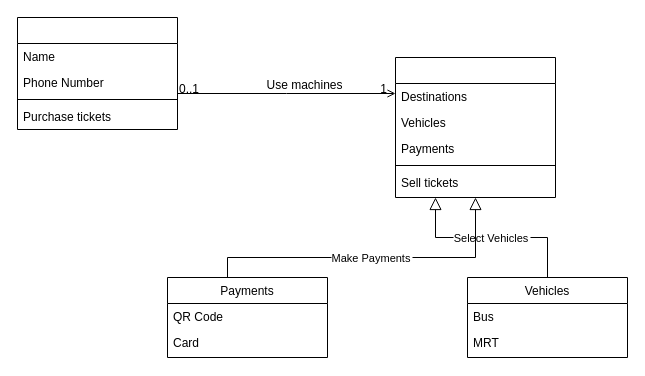
Image size: 645x376. Some labels were removed from this diagram. Each missing label, with the box of its shape:
Customers: (16, 16, 178, 130)
Ticketvendor: (394, 56, 556, 198)
